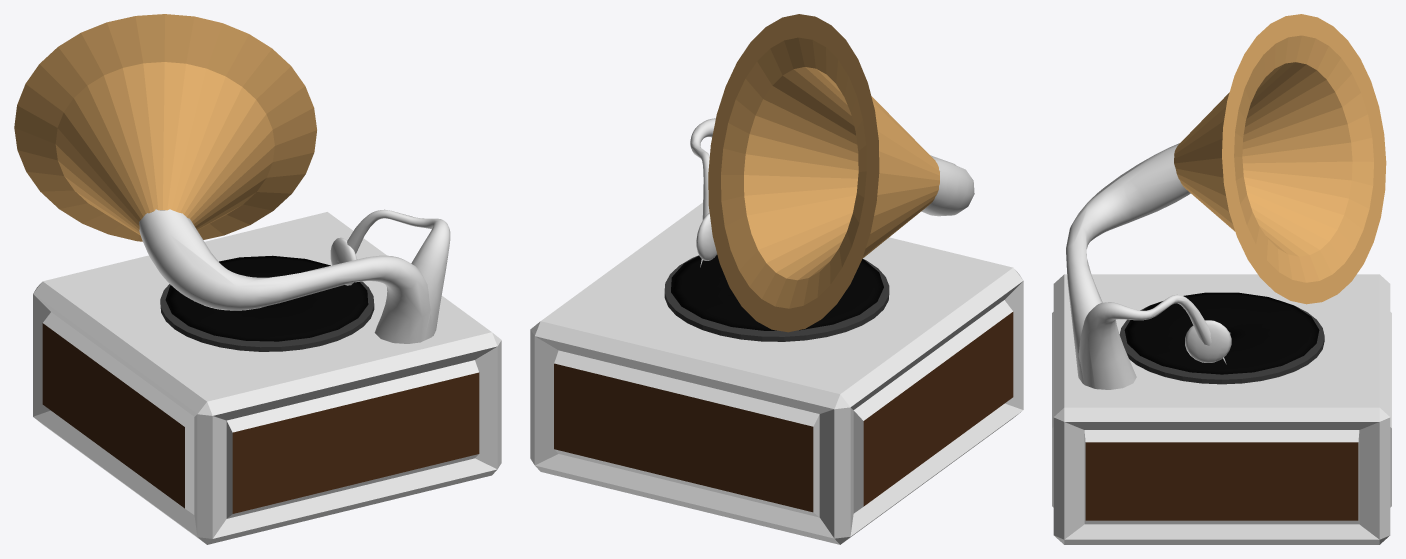
File: SpaceGramophone.fbx
3 renders of one model, left to right at view 1: azimuth 30°, elevation 25°; view 2: azimuth 150°, elevation 25°; view 3: azimuth 270°, elevation 25°, orthographic. The views are drawn at different scales.
Visible parts, largest first — view 1: Head, Speaker, Record; view 2: Head, Speaker, Record; view 3: Head, Speaker, Record.
Boxes of the visible parts, <box> form: Head: <box>33,209,501,544</box>; Speaker: <box>14,14,316,241</box>; Record: <box>165,255,368,341</box>; Head: <box>530,118,1023,544</box>; Speaker: <box>708,14,939,332</box>; Record: <box>671,255,883,330</box>; Head: <box>1052,143,1391,544</box>; Speaker: <box>1174,14,1386,304</box>; Record: <box>1124,292,1319,374</box>.
Size of the model in its own units: 214 by 274 by 202.
